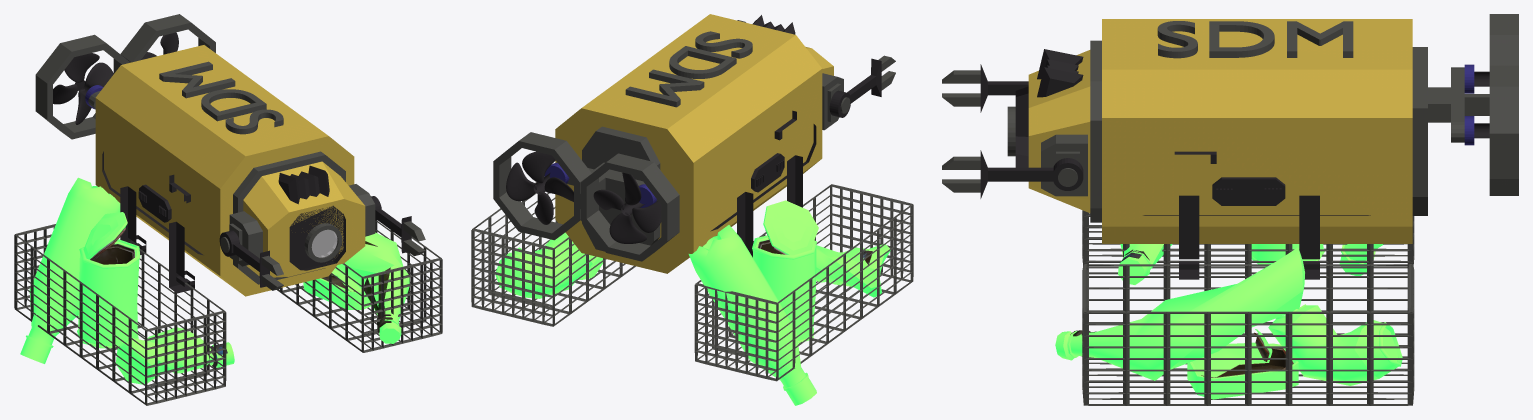
Rendered from collector_with_both.glb.
The picture shows the model from 3 angles, left to right: view 1: azimuth 30°, elevation 25°; view 2: azimuth 150°, elevation 25°; view 3: azimuth 270°, elevation 25°; orthographic projection. The views are drawn at different scales.
Visible parts, largest first — view 1: main_body, neck, Can_02_GEO.003, Can_02_GEO, Plastic_Bottle_01_GEO, camera_lens; view 2: main_body, neck, Can_02_GEO.003, Circle.002; view 3: main_body, neck, Can_02_GEO.003, Can_02_GEO, Circle.002.
Boxes of the visible parts, <box> form: main_body: <box>53,32,411,296</box>; neck: <box>14,14,442,405</box>; Can_02_GEO.003: <box>20,177,409,384</box>; Can_02_GEO: <box>90,227,354,291</box>; Plastic_Bottle_01_GEO: <box>210,241,392,367</box>; camera_lens: <box>311,229,337,257</box>; main_body: <box>506,14,881,273</box>; neck: <box>471,20,913,381</box>; Can_02_GEO.003: <box>495,200,890,405</box>; Circle.002: <box>544,163,656,207</box>; main_body: <box>980,19,1489,279</box>; neck: <box>942,14,1518,405</box>; Can_02_GEO.003: <box>1055,244,1402,399</box>; Can_02_GEO: <box>1201,332,1293,377</box>; Circle.002: <box>1464,64,1474,145</box>.
Bounding box in the file's own units: 4.28 × 3.45 × 5.53.
7 materials, 7 textured.
